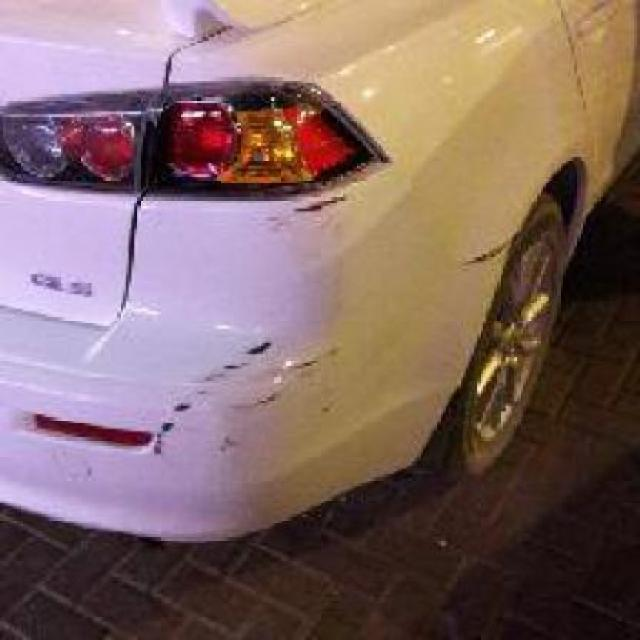dent-or-scratch: (146, 332, 320, 446)
